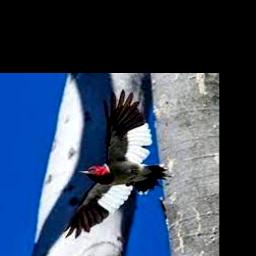Woodpecker: (64, 90, 175, 239)
